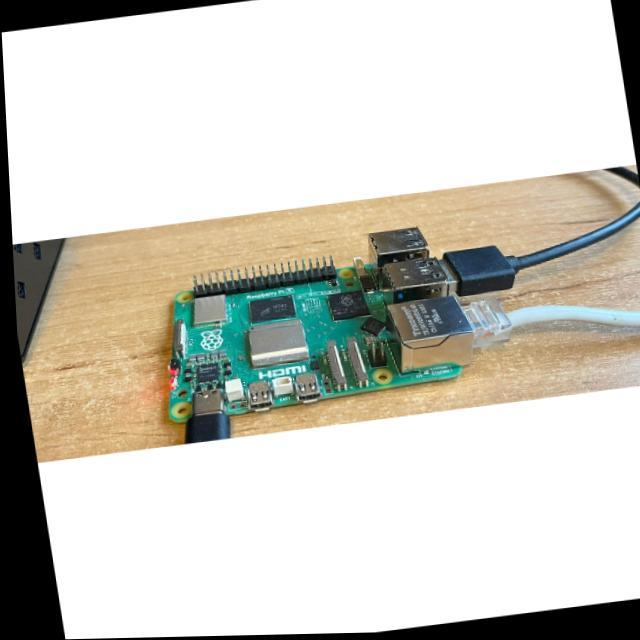Raspberry-Pi-5: (170, 229, 472, 423)
